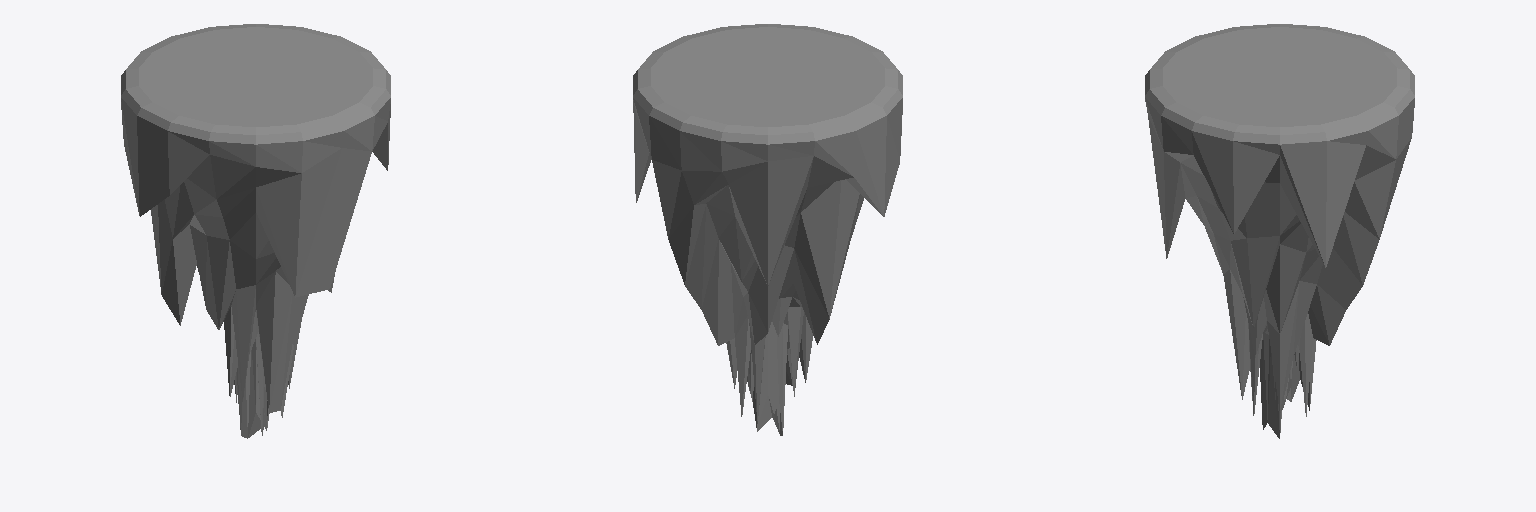
File: FloatingIsland1.obj
3 views of the same model, side by side, from view 1: azimuth 30°, elevation 25°; view 2: azimuth 150°, elevation 25°; view 3: azimuth 270°, elevation 25° (orthographic).
Visible parts, largest first — view 1: island; view 2: island; view 3: island.
Part boxes in pixels (left/top/right/bottom): island: left=121, top=24, right=390, bottom=438; island: left=633, top=24, right=902, bottom=435; island: left=1145, top=24, right=1414, bottom=438.
Size of the model in its own units: 379 by 544 by 373.